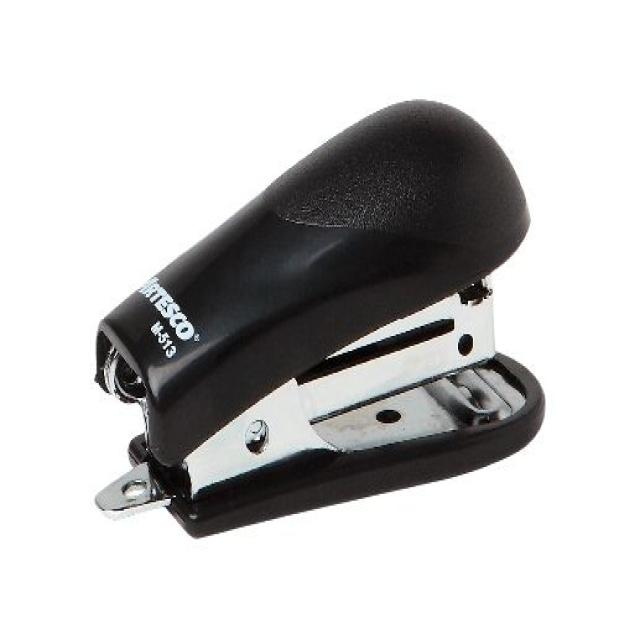Stapler: (66, 34, 581, 574)
